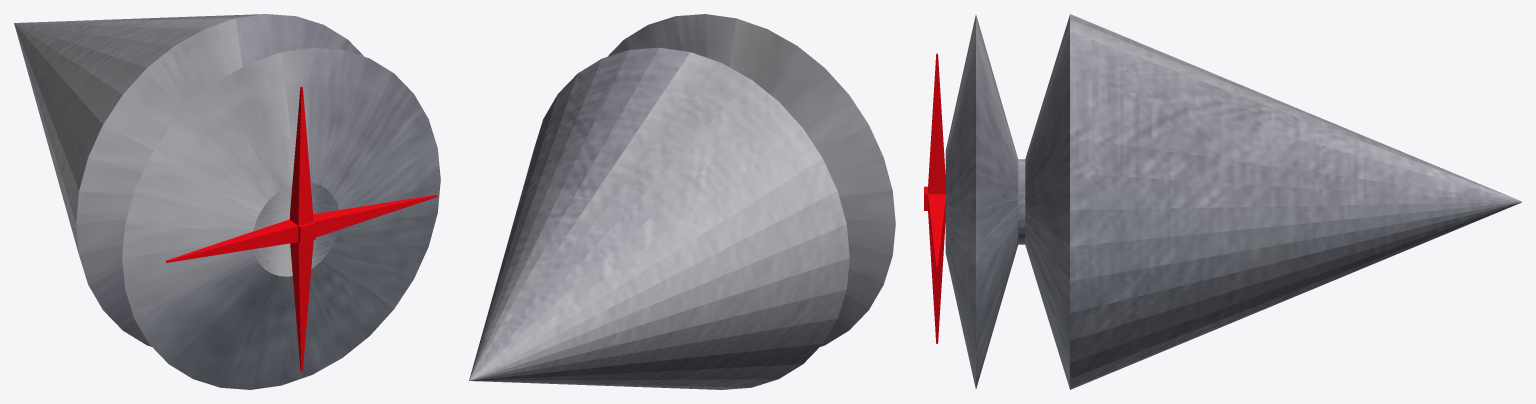
The model's file is torpedo.gltf.
3 renders of one model, left to right at view 1: azimuth 30°, elevation 25°; view 2: azimuth 150°, elevation 25°; view 3: azimuth 270°, elevation 25°, orthographic. The views are drawn at different scales.
Parts seen in each view (by area): view 1: Cylinder.011, Cube.001; view 2: Cylinder.011; view 3: Cylinder.011, Cube.001.
Part boxes in pixels (<box>): Cylinder.011: <box>14,14,440,389</box>; Cube.001: <box>166,86,437,370</box>; Cylinder.011: <box>469,14,895,389</box>; Cylinder.011: <box>945,14,1521,389</box>; Cube.001: <box>924,53,945,343</box>.
Size of the model in its own units: 0.2497 by 0.2497 by 0.3966.
Materials: 2 (2 with a texture image).
